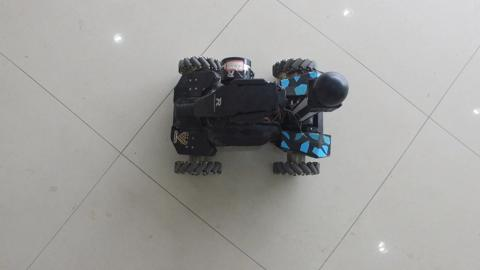chariot: (165, 52, 340, 177)
